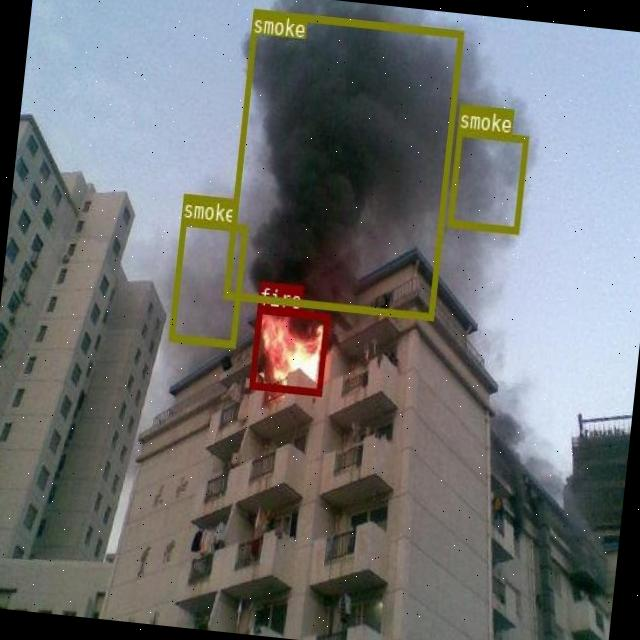fire: (248, 306, 328, 394)
smoke: (222, 8, 462, 318), (168, 217, 247, 347), (447, 128, 528, 232)
